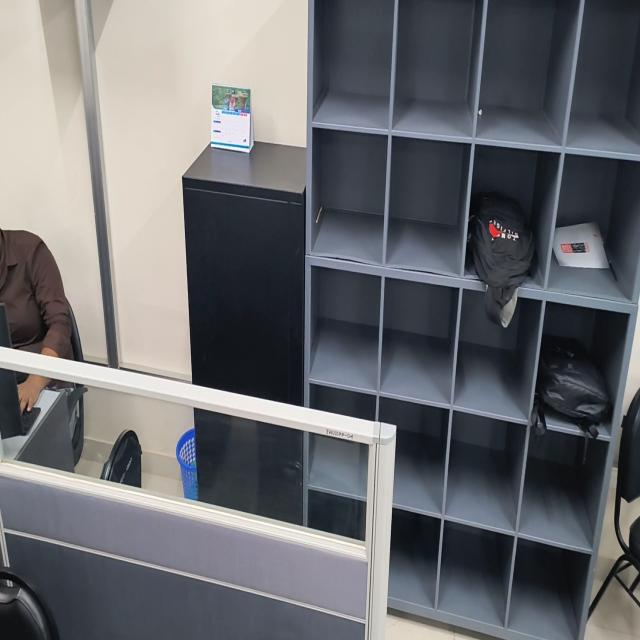Chair: (589, 389, 640, 617), (0, 572, 59, 639), (101, 431, 141, 487), (65, 385, 87, 465), (70, 309, 83, 360)
Keyboard: (21, 407, 41, 434)
Monitor: (0, 369, 23, 439), (0, 303, 10, 347)
